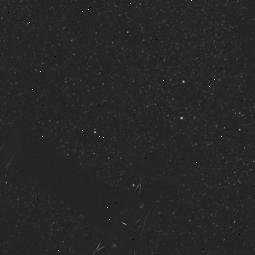xmm_newton: (0, 158, 167, 250)
